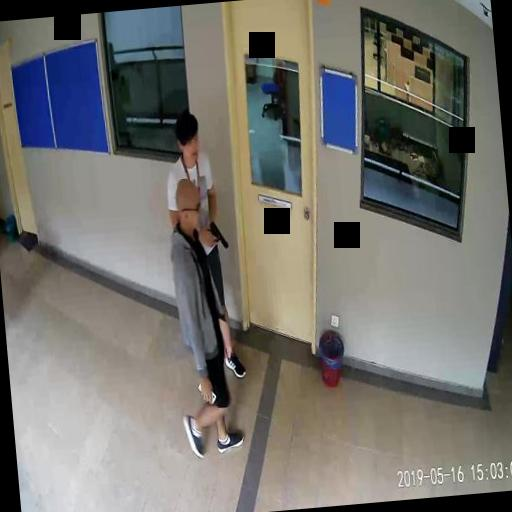Handgun: (208, 217, 228, 249)
